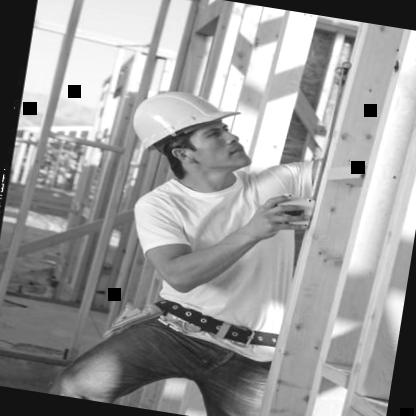helmet: (112, 68, 264, 202)
